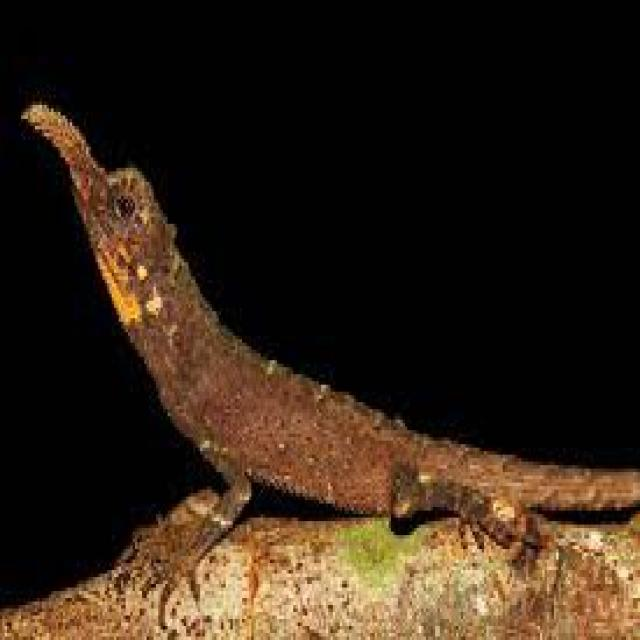Lizard: (20, 101, 640, 569)
